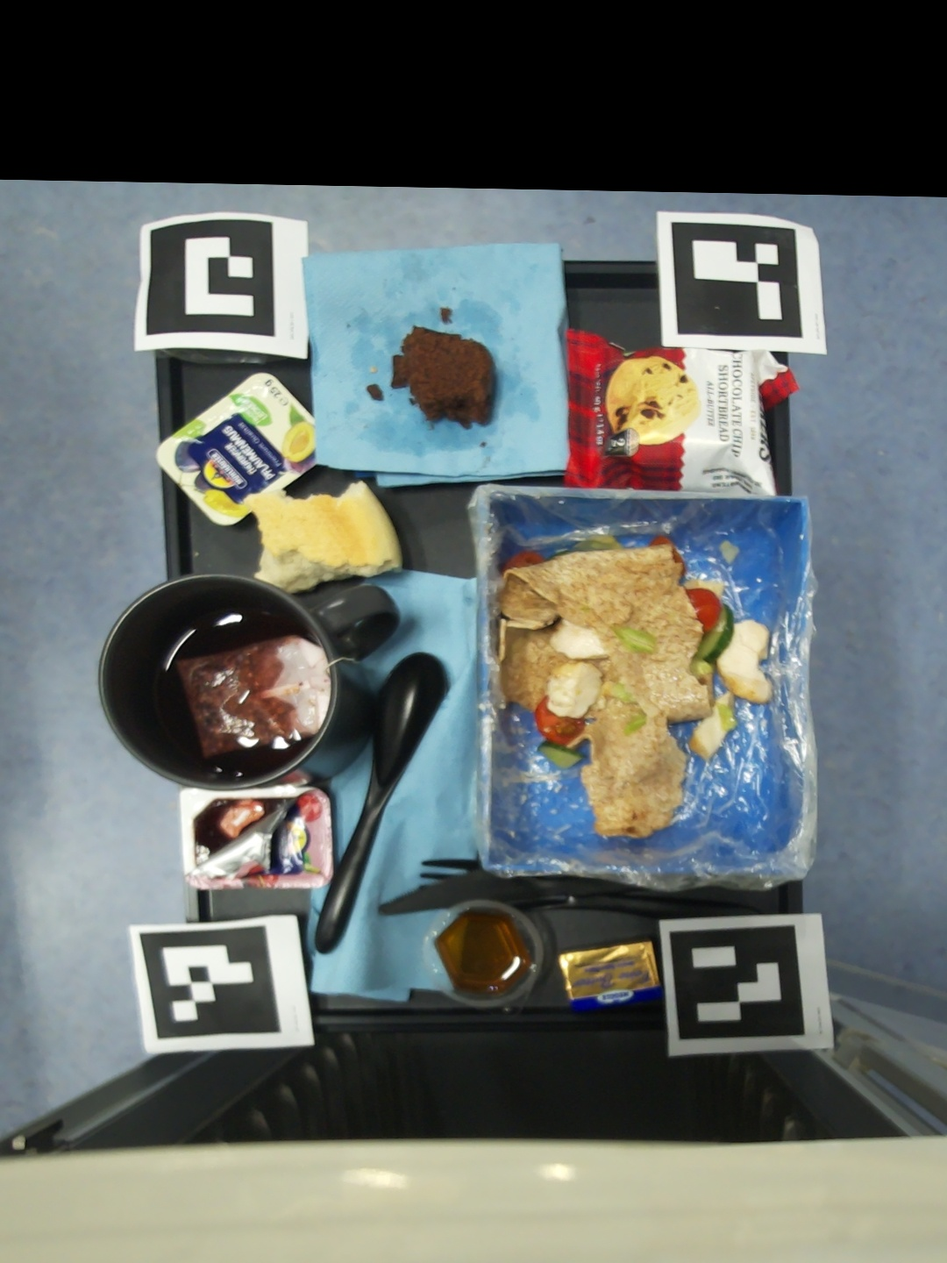bread_roll: (243, 480, 403, 593)
brownie: (391, 325, 496, 430), (367, 383, 385, 399), (441, 307, 452, 324)
butter: (559, 940, 661, 1012)
cherry_jam: (179, 786, 335, 890)
cookie: (563, 326, 800, 493)
honey: (421, 897, 539, 1015)
plum_jam: (156, 373, 315, 526)
tea_cup: (99, 574, 400, 790)
wrap_half_1: (497, 535, 773, 839), (719, 540, 741, 564)
